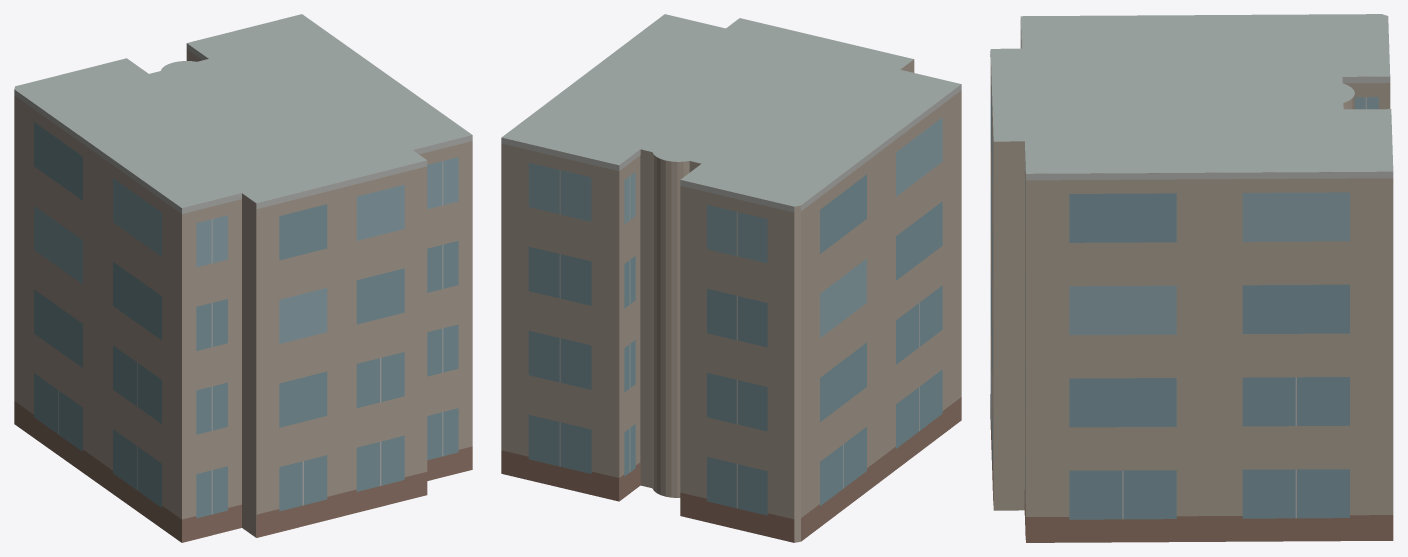
Rendered from survey-upis-32941581.glb.
3 views of the same model, side by side, from view 1: azimuth 30°, elevation 25°; view 2: azimuth 150°, elevation 25°; view 3: azimuth 270°, elevation 25° (orthographic). The views are drawn at different scales.
Visible parts, largest first — view 1: survey-upis-32941581.tmp; view 2: survey-upis-32941581.tmp; view 3: survey-upis-32941581.tmp.
Boxes of the visible parts, x1,y1,x2,y2 form: survey-upis-32941581.tmp: (14,14,472,542); survey-upis-32941581.tmp: (501,14,961,542); survey-upis-32941581.tmp: (990,14,1393,542).
Bounding box in the file's own units: 12.83 × 13.8 × 13.66.
